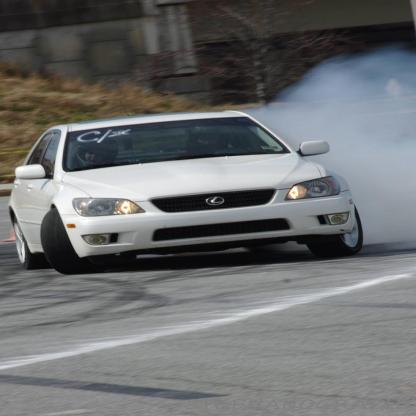Car: (7, 110, 365, 276)
